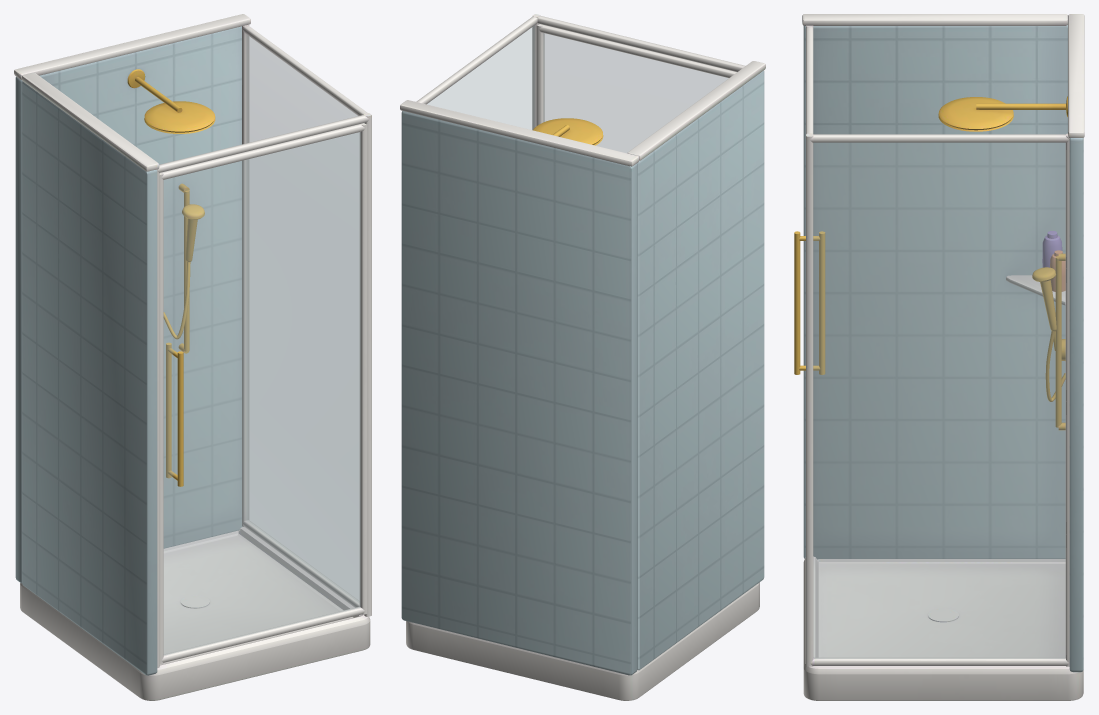
The model's file is shower-cabin.glb.
The picture shows the model from 3 angles, left to right: view 1: azimuth 30°, elevation 25°; view 2: azimuth 150°, elevation 25°; view 3: azimuth 270°, elevation 25°; orthographic projection. The views are drawn at different scales.
Parts seen in each view (by area): view 1: shower-cabin_body, shower-cabin_door_glass, shower-cabin_side_glass, shower-cabin_door; view 2: shower-cabin_body, shower-cabin_door_glass, shower-cabin_side_glass, shower-cabin_door; view 3: shower-cabin_body, shower-cabin_side_glass, shower-cabin_door.
Part boxes in pixels (bbox=[...]): shower-cabin_body: bbox=[14, 14, 371, 700]; shower-cabin_door_glass: bbox=[164, 132, 360, 655]; shower-cabin_side_glass: bbox=[246, 34, 359, 602]; shower-cabin_door: bbox=[159, 123, 367, 664]; shower-cabin_body: bbox=[400, 14, 765, 700]; shower-cabin_door_glass: bbox=[543, 33, 728, 152]; shower-cabin_side_glass: bbox=[427, 25, 534, 129]; shower-cabin_door: bbox=[536, 24, 736, 125]; shower-cabin_body: bbox=[802, 14, 1084, 700]; shower-cabin_side_glass: bbox=[813, 143, 1065, 658]; shower-cabin_door: bbox=[794, 231, 825, 374].
Size of the model in its own units: 0.908 by 2.02 by 0.934.
4 materials, 2 textured.
